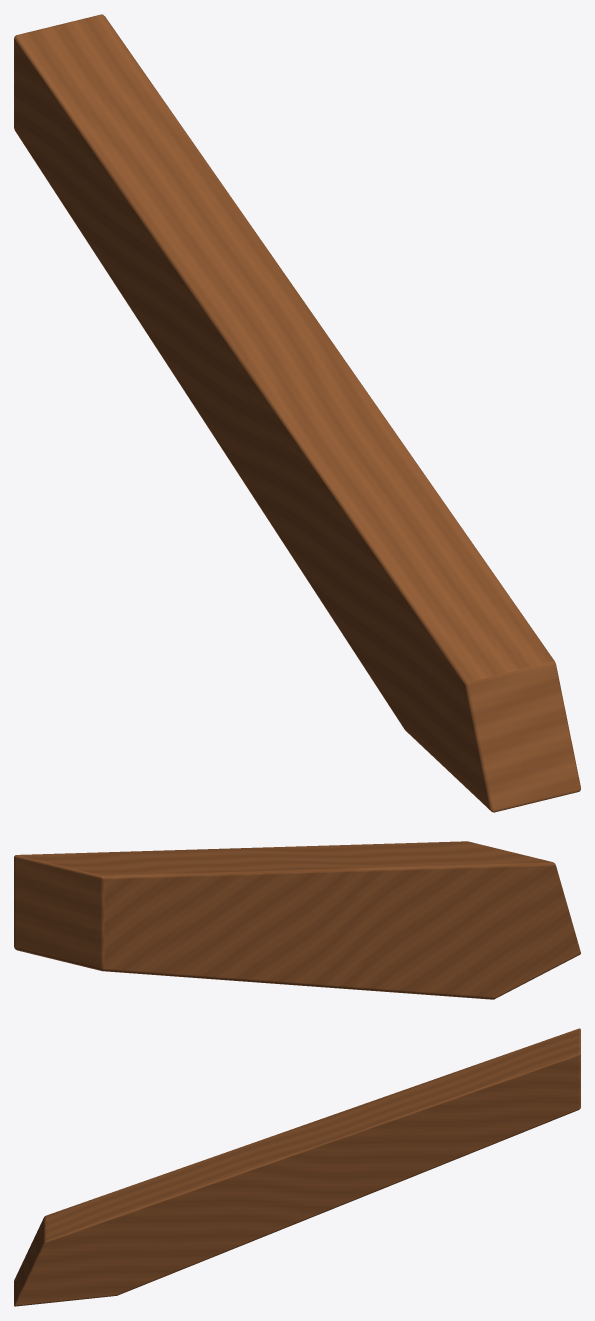
3 renders of one model, top to bottom at view 1: azimuth 30°, elevation 25°; view 2: azimuth 150°, elevation 25°; view 3: azimuth 270°, elevation 25°, orthographic. The views are drawn at different scales.
Visible parts, largest first — view 1: k4_ang_01; view 2: k4_ang_01; view 3: k4_ang_01.
Part boxes in pixels (x1,y1,x2,y2): k4_ang_01: (14,14,580,812); k4_ang_01: (14,841,580,999); k4_ang_01: (14,1028,580,1306).
Bounding box in the file's own units: 0.3461 × 1.55 × 3.15.
Materials: 1 (1 with a texture image).
